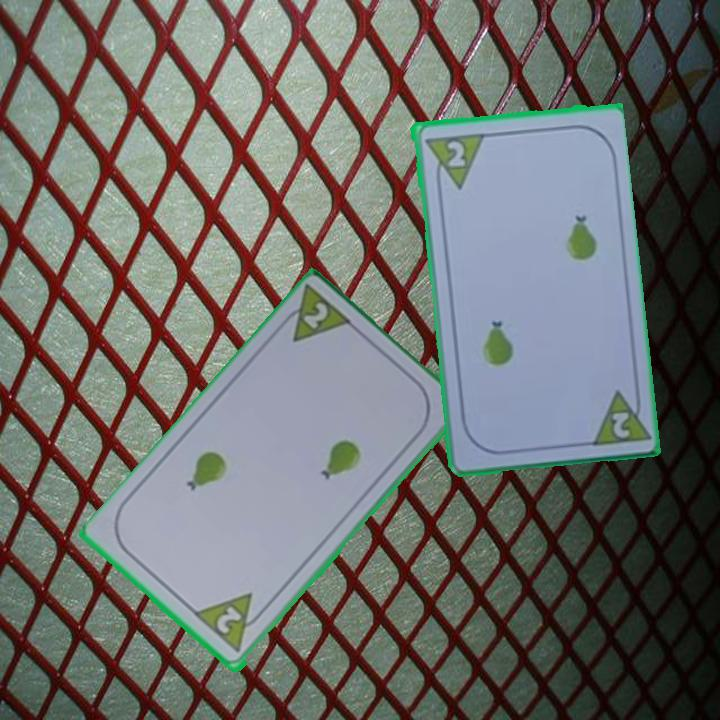2p: (420, 129, 485, 193), (212, 603, 245, 638), (299, 299, 332, 333), (607, 407, 633, 441)
